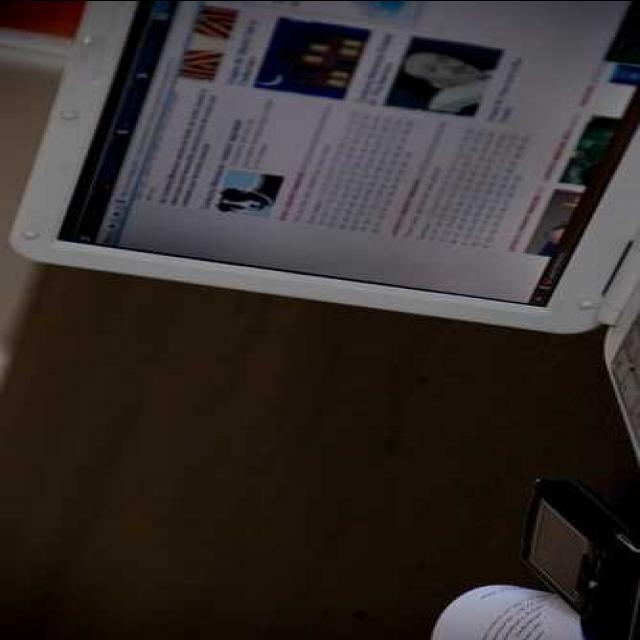laptop: (30, 1, 640, 316)
